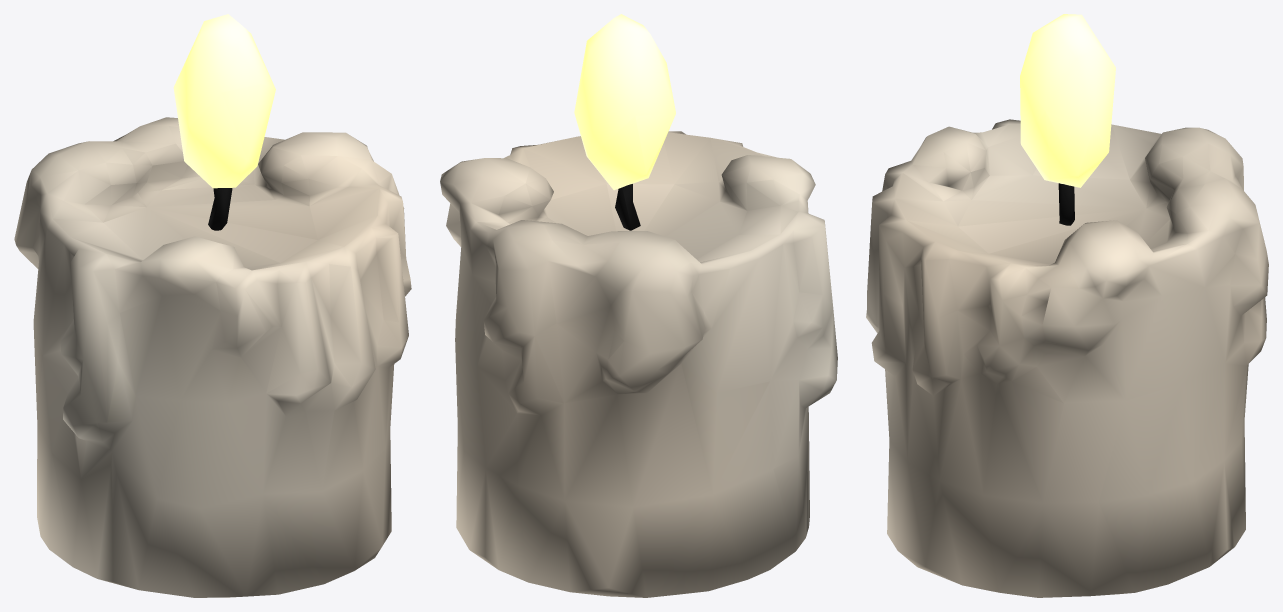
The model's file is frost_candle_stub_lod2.glb.
The picture shows the model from 3 angles, left to right: view 1: azimuth 30°, elevation 25°; view 2: azimuth 150°, elevation 25°; view 3: azimuth 270°, elevation 25°; orthographic projection.
Visible parts, largest first — view 1: frost_candle_stub.001, flame.001; view 2: frost_candle_stub.001, flame.001; view 3: frost_candle_stub.001, flame.001.
Boxes of the visible parts, x1,y1,x2,y2 form: frost_candle_stub.001: (14,117,411,597); flame.001: (173,14,275,188); frost_candle_stub.001: (440,131,837,597); flame.001: (574,14,675,190); frost_candle_stub.001: (866,119,1268,597); flame.001: (1020,14,1115,187).
Bounding box in the file's own units: 9.25 × 12.74 × 9.05.
